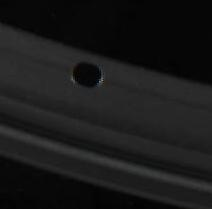holes: (70, 60, 104, 88)
